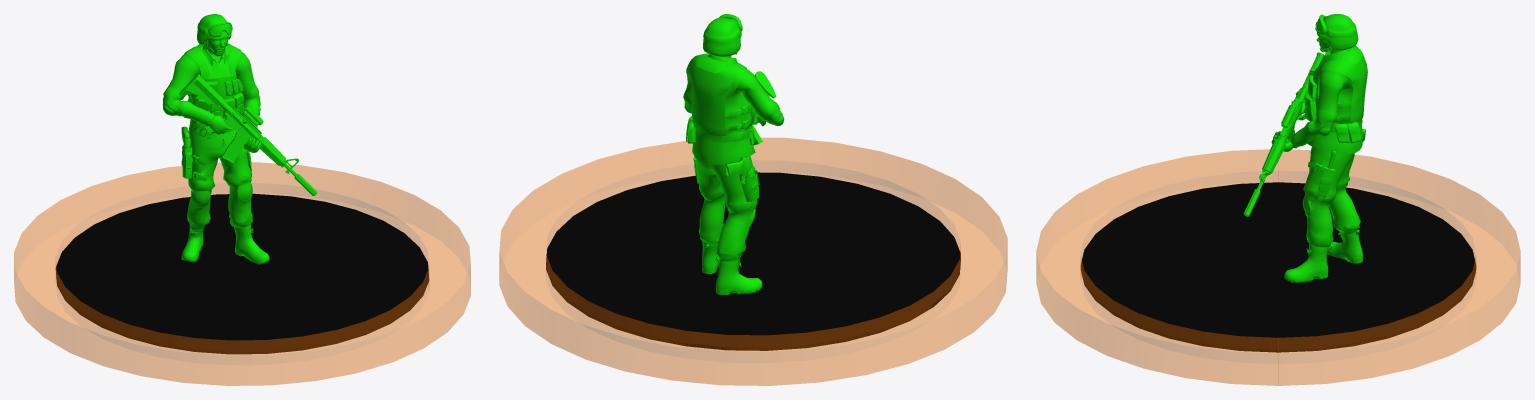
The model's file is Icon_SelectUnit.fbx.
3 views of the same model, side by side, from view 1: azimuth 30°, elevation 25°; view 2: azimuth 150°, elevation 25°; view 3: azimuth 270°, elevation 25° (orthographic). The views are drawn at different scales.
Parts seen in each view (by area): view 1: Icon_SelectUnit; view 2: Icon_SelectUnit; view 3: Icon_SelectUnit.
Part boxes in pixels (x1=…): Icon_SelectUnit: x1=14, y1=14, x2=470, y2=385; Icon_SelectUnit: x1=499, y1=14, x2=1007, y2=385; Icon_SelectUnit: x1=1036, y1=14, x2=1520, y2=385.
Bounding box in the file's own units: 196 × 119 × 196.
